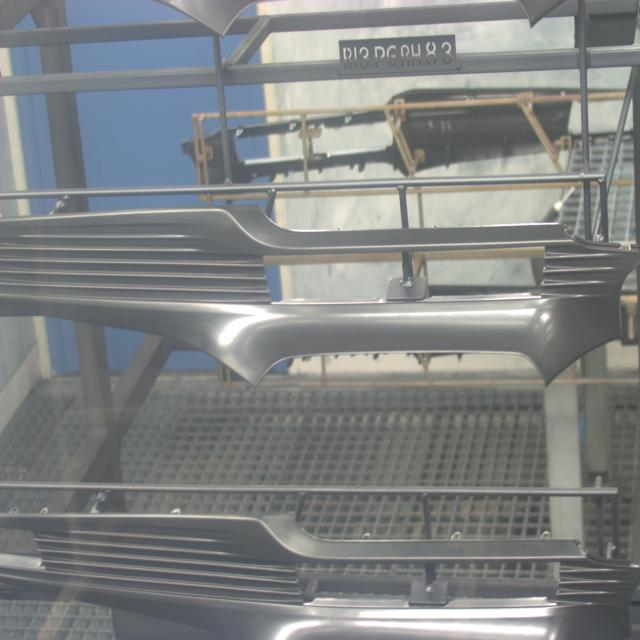Non_primered: (3, 206, 640, 388)
